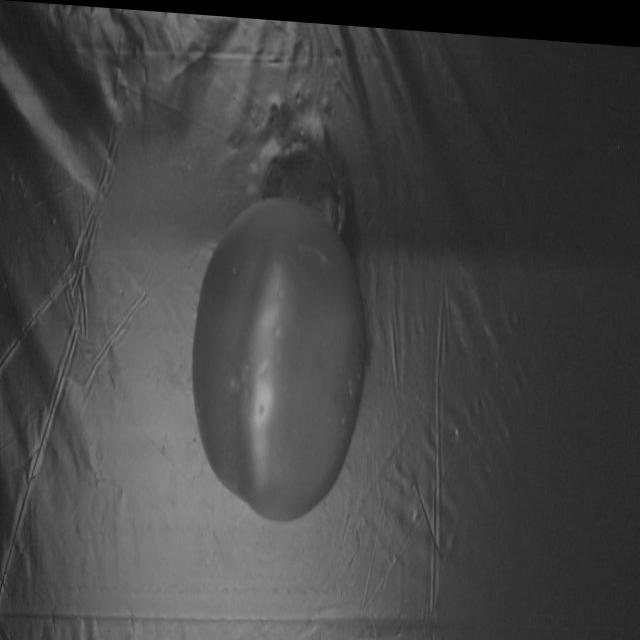kirmizi: (194, 183, 369, 528)
